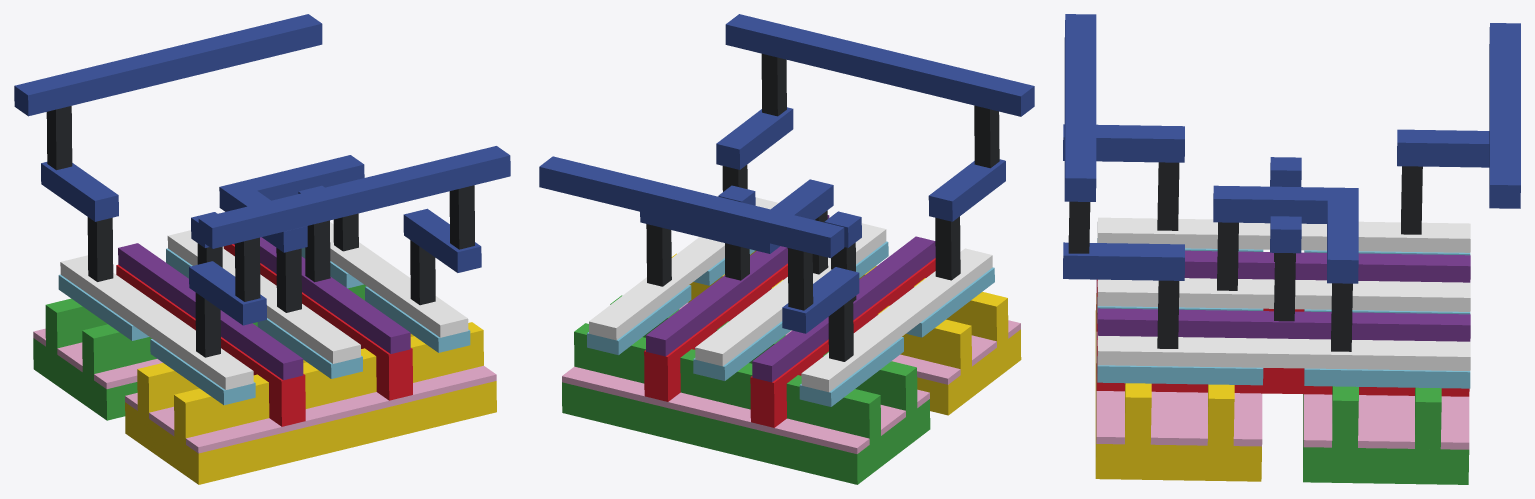
File: NAND.obj
3 renders of one model, left to right at view 1: azimuth 30°, elevation 25°; view 2: azimuth 150°, elevation 25°; view 3: azimuth 270°, elevation 25°, orthographic. The views are drawn at different scales.
Visible parts, largest first — view 1: group_0_3888547, group_0_16768282, group_0_16448250, group_0_2829873, group_0_8273816, group_0_4634441, group_0_8768998, group_0_15708628, group_0_15277357; view 2: group_0_3888547, group_0_4634441, group_0_16448250, group_0_2829873, group_0_8273816, group_0_16768282, group_0_15708628, group_0_8768998, group_0_15277357; view 3: group_0_3888547, group_0_16448250, group_0_8273816, group_0_15708628, group_0_2829873, group_0_16768282, group_0_4634441, group_0_8768998, group_0_15277357.
Part boxes in pixels (x1,y1,x2,y2): group_0_3888547: (14, 14, 510, 325); group_0_16768282: (125, 322, 496, 484); group_0_16448250: (60, 222, 468, 389); group_0_2829873: (46, 106, 474, 357); group_0_8273816: (118, 237, 410, 380); group_0_4634441: (33, 284, 366, 420); group_0_8768998: (58, 247, 470, 405); group_0_15708628: (33, 328, 496, 453); group_0_15277357: (116, 244, 412, 426); group_0_3888547: (539, 14, 1034, 333); group_0_4634441: (562, 295, 930, 484); group_0_16448250: (589, 197, 992, 392); group_0_2829873: (646, 53, 999, 361); group_0_8273816: (646, 215, 935, 382); group_0_16768282: (671, 250, 1021, 415); group_0_15708628: (562, 302, 1020, 453); group_0_8768998: (587, 241, 994, 406); group_0_15277357: (644, 258, 935, 427); group_0_3888547: (1063, 14, 1520, 283); group_0_16448250: (1097, 217, 1470, 370); group_0_8273816: (1097, 250, 1470, 341); group_0_15708628: (1096, 279, 1469, 449); group_0_2829873: (1068, 162, 1422, 351); group_0_16768282: (1095, 293, 1261, 481); group_0_4634441: (1303, 386, 1469, 484); group_0_8768998: (1097, 238, 1470, 388); group_0_15277357: (1096, 279, 1469, 396).
Bounding box in the file's own units: 150 × 131 × 177.
